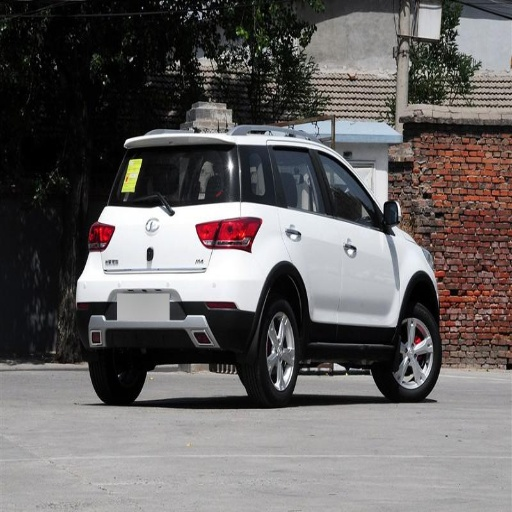back_bumper: (76, 249, 268, 351)
back_right_door: (267, 144, 343, 340)
trunk: (94, 207, 221, 287)
